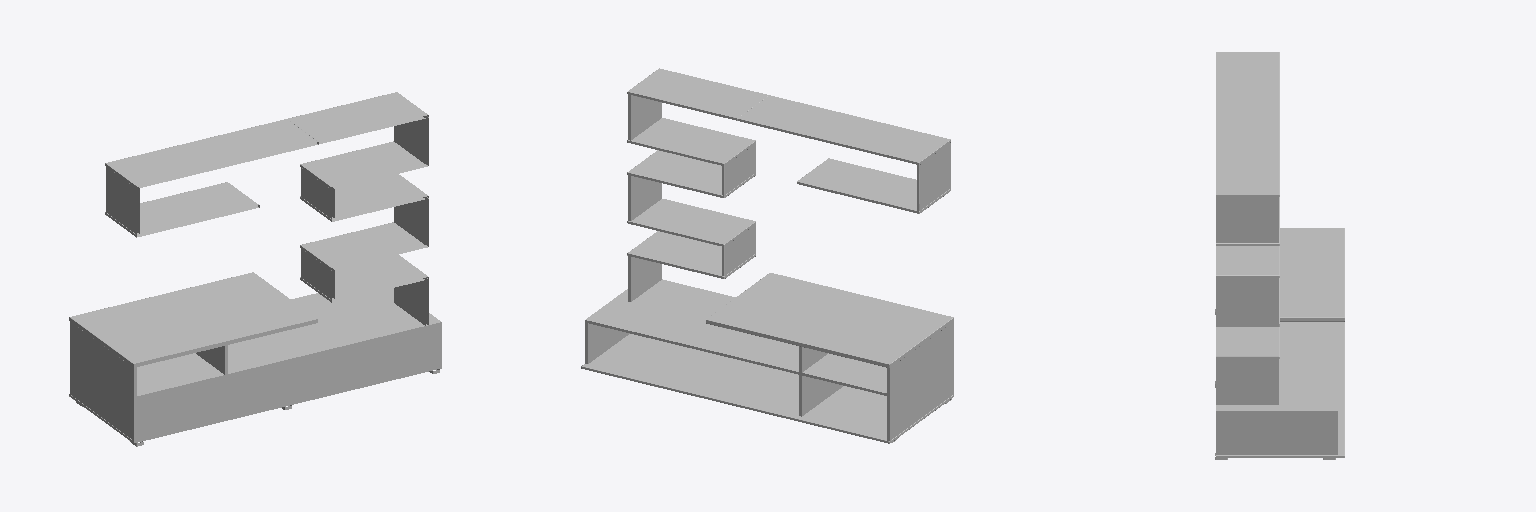
The model's file is tvTable.obj.
3 views of the same model, side by side, from view 1: azimuth 30°, elevation 25°; view 2: azimuth 150°, elevation 25°; view 3: azimuth 270°, elevation 25° (orthographic).
Visible parts, largest first — view 1: Cabinet; view 2: Cabinet; view 3: Cabinet.
Boxes of the visible parts, <box> form: Cabinet: <box>69,92,441,446</box>; Cabinet: <box>581,68,953,443</box>; Cabinet: <box>1215,52,1344,459</box>.
Size of the model in its own units: 2.01 by 1.61 by 0.7315.